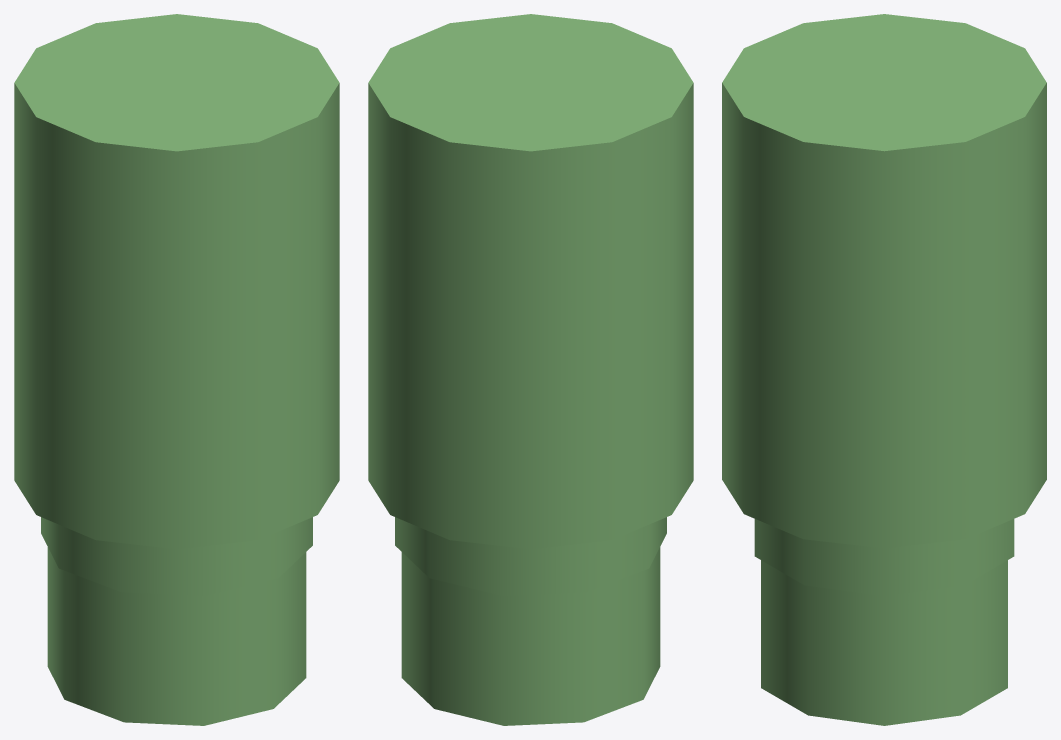
Rendered from plant-small.glb.
3 views of the same model, side by side, from view 1: azimuth 30°, elevation 25°; view 2: azimuth 150°, elevation 25°; view 3: azimuth 270°, elevation 25° (orthographic).
Size of the model in its own units: 0.2 by 0.4 by 0.2.
